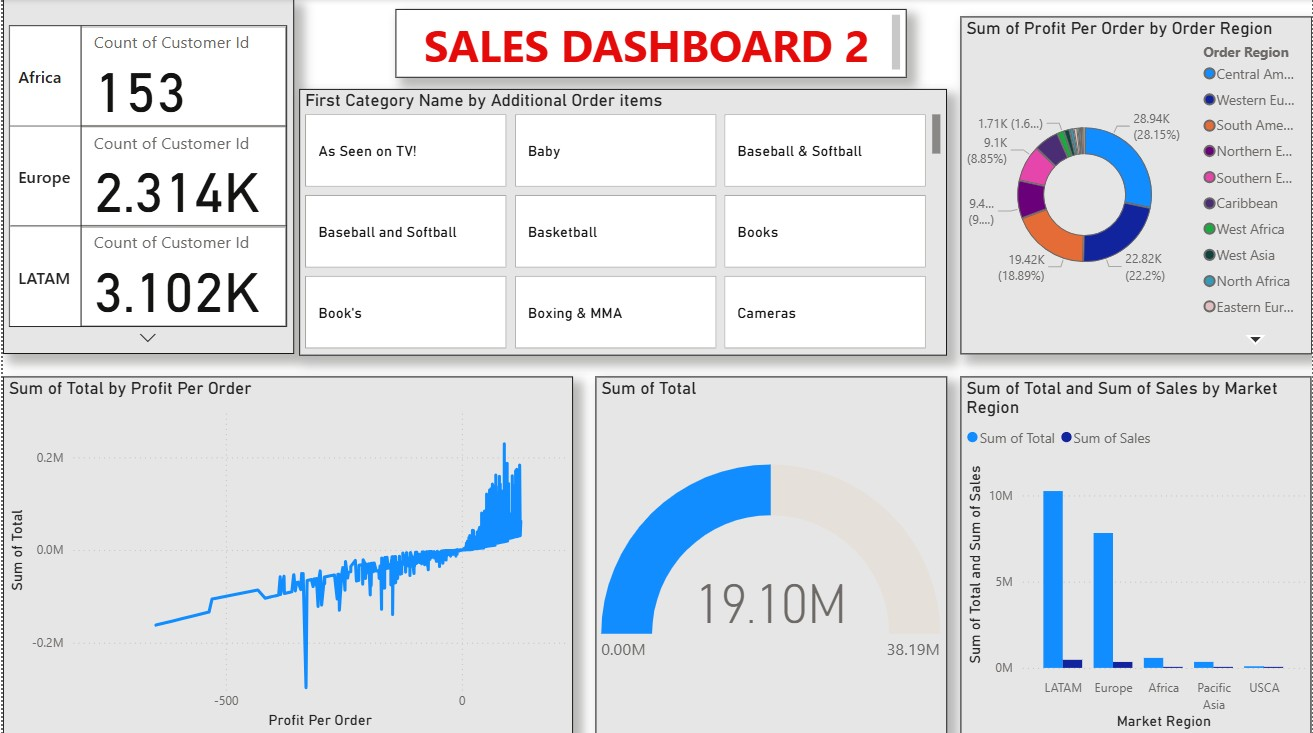

What the dashboard file says about the page in this screenshot:
{"tool":"powerbi","page":{"name":"Page 2","canvas":[1280,720],"ordinal":1},"visuals":[{"type":"cardVisual","fields":{"Data":["CountNonNull(Sales Data.Customer Id)"],"Rows":["Sales Data.Market Region"]},"box":[0,0,284.9,347.3],"z":0},{"type":"textbox","box":[384,9.8,500.1,67.3],"z":1000},{"type":"advancedSlicerVisual","fields":{"Values":["Sales Data.Additional Order items"]},"box":[289.8,88,633.4,260.5],"z":2000},{"type":"lineChart","fields":{"Category":["Sales Data.Profit Per Order"],"Y":["Sum(Sales Data.Total)"]},"box":[0,369.3,557.6,351],"z":3000},{"type":"donutChart","fields":{"Y":["Sum(Sales Data.Profit Per Order)"],"Category":["Sales Data.Order Region"]},"box":[936.7,17.1,343.6,330.2],"z":4000},{"type":"gauge","fields":{"Y":["Sum(Sales Data.Total)"]},"box":[579.6,369.3,343.6,351],"z":5000},{"type":"clusteredColumnChart","fields":{"Category":["Sales Data.Market Region"],"Y":["Sum(Sales Data.Total)","Sum(Sales Data.Sales)"]},"box":[937,369,343,351],"z":6000}]}

Visuals, with their boxes in screenshot pixels (x1, y1, x2, y2), scaled from the page's 1280x720 canvas onto the 1313x733 screenshot:
cardVisual - CountNonNull(Sales Data.Customer Id) x Sales Data.Market Region: box=[0, 0, 292, 354]
textbox: box=[394, 10, 907, 78]
advancedSlicerVisual - Sales Data.Additional Order items: box=[297, 90, 947, 355]
lineChart - Sales Data.Profit Per Order x Sum(Sales Data.Total): box=[0, 376, 572, 732]
donutChart - Sum(Sales Data.Profit Per Order) x Sales Data.Order Region: box=[961, 17, 1312, 354]
gauge - Sum(Sales Data.Total): box=[595, 376, 947, 732]
clusteredColumnChart - Sales Data.Market Region x Sum(Sales Data.Total): box=[961, 376, 1312, 732]
